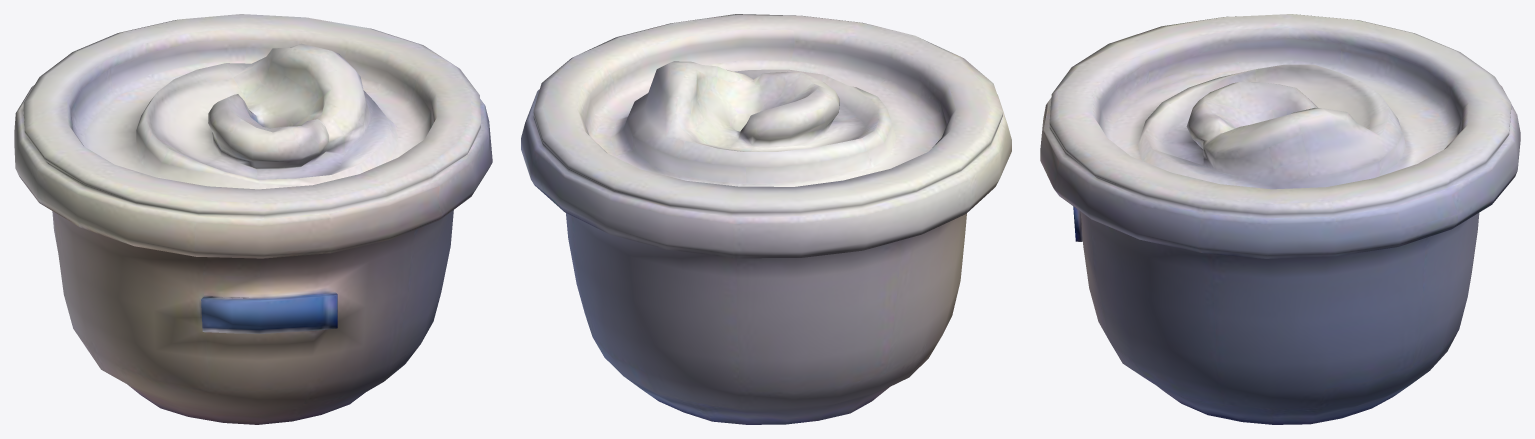
File: cream-cheese.glb
3 renders of one model, left to right at view 1: azimuth 30°, elevation 25°; view 2: azimuth 150°, elevation 25°; view 3: azimuth 270°, elevation 25°, orthographic.
Parts seen in each view (by area): view 1: Cream Cheese; view 2: Cream Cheese; view 3: Cream Cheese.
Boxes of the visible parts, x1,y1,x2,y2 form: Cream Cheese: (14, 14, 492, 424); Cream Cheese: (521, 14, 1011, 424); Cream Cheese: (1040, 14, 1520, 424).
Size of the model in its own units: 1.48 by 1.01 by 1.47.
1 material, 1 textured.
